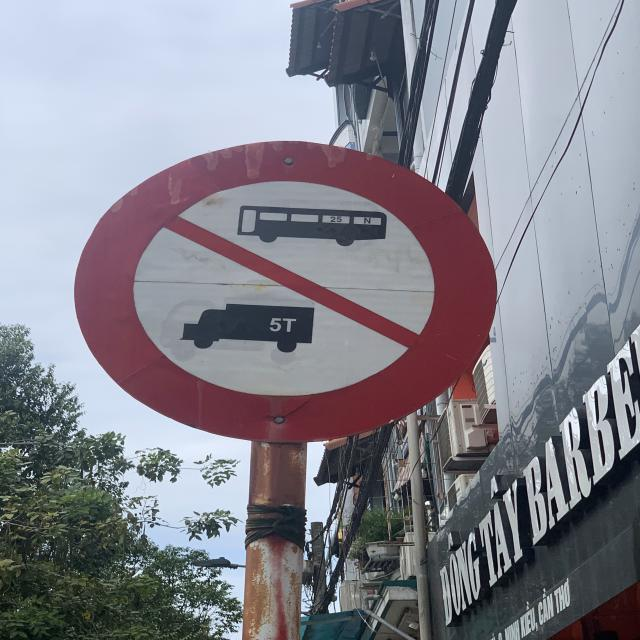Cam_XeTai_XeKhach: (71, 142, 496, 442)
